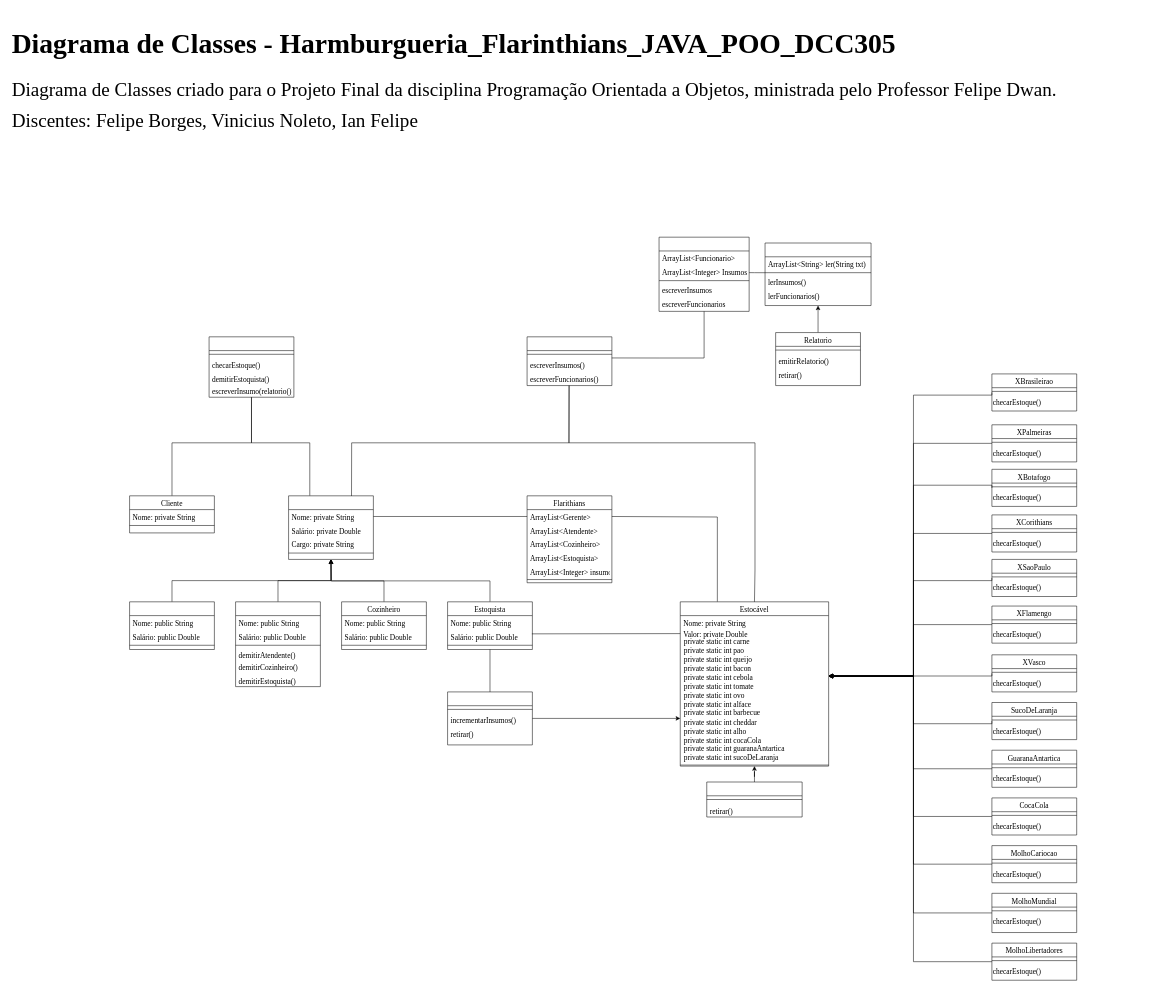
Some shapes in this 1173 by 990 pixel diagram are drawn without their labels. The box of each missing label's shape, as (x1, y1, x2, y2) in pixels:
Atendente: (129, 601, 214, 650)
EscTxt: (659, 237, 749, 311)
Estrutura: (527, 336, 612, 386)
Examinador: (706, 781, 802, 817)
Funcionário: (288, 495, 373, 559)
Gerente: (235, 601, 320, 687)
Guardador: (447, 691, 532, 745)
Interacao: (209, 336, 294, 397)
LerTxt: (765, 242, 871, 306)
